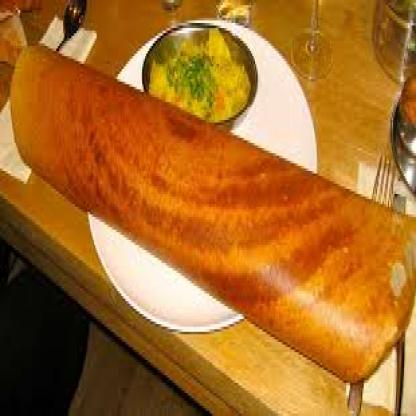dosa: (10, 43, 416, 382)
